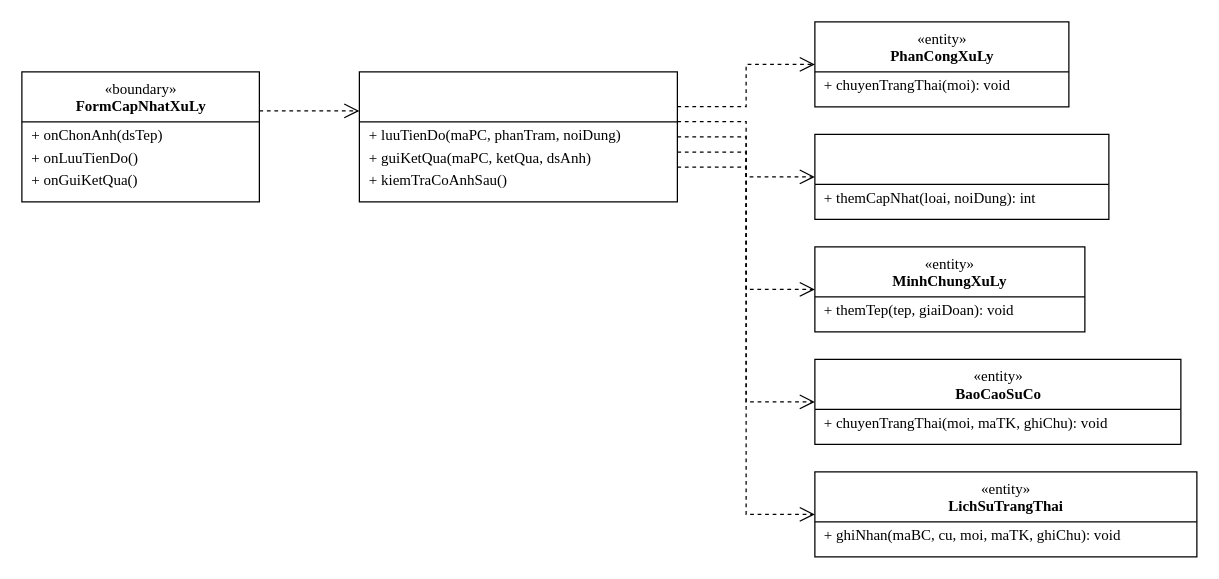
Some shapes in this 1219 by 579 pixel diagram are drawn without their labels. The shapes that lost their labels are listed below. From the top down, each one's box as (x1, y1, x2, y2) in pixels, then its label:
(358, 71, 677, 202): «control» CapNhatXuLyService
(814, 133, 1109, 219): «entity» CapNhatXuLy
